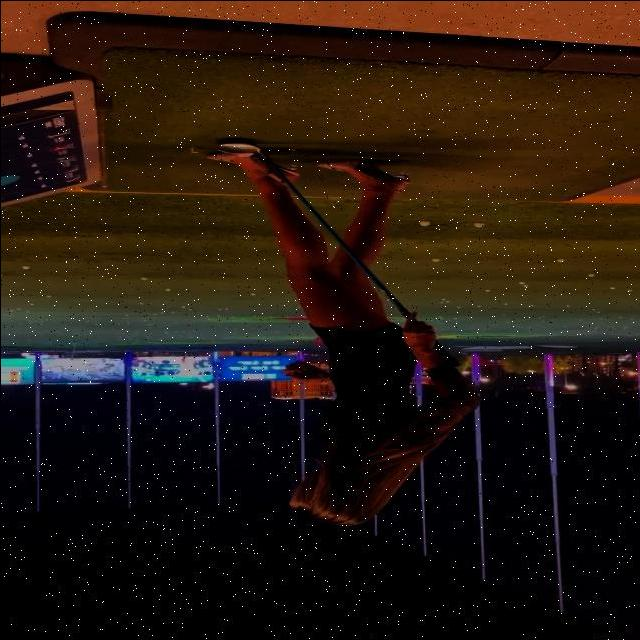ClubHandle: (216, 141, 459, 367)
ClubHead: (218, 142, 261, 153)
